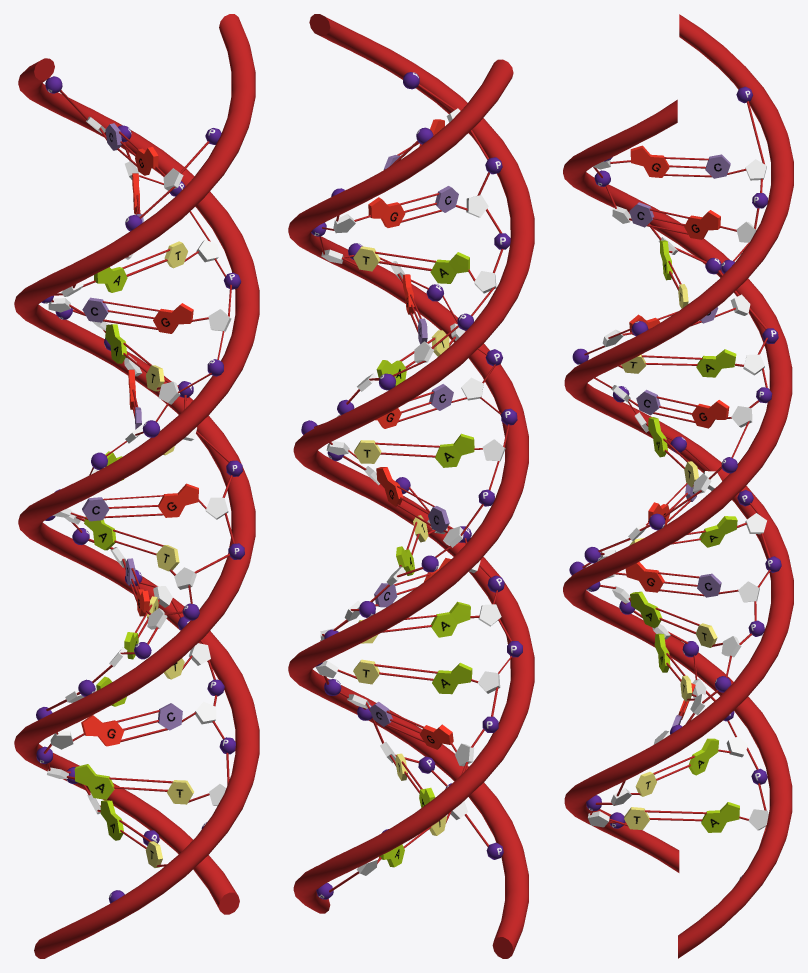
Rendered from DNA.glb.
3 renders of one model, left to right at view 1: azimuth 30°, elevation 25°; view 2: azimuth 150°, elevation 25°; view 3: azimuth 270°, elevation 25°, orthographic. The views are drawn at different scales.
Parts seen in each view (by area): view 1: Sugar_phosphate_backbone_2_Double_helical_DNA_Hydrogen_Bonds, Sugar_phosphate_backbone_53_Double_helical_DNA_Hydrogen_Bond, Deoxyribose_Sugar_All_Adenine_Pentose_Guanine_Thymine_cytosi, phosphate_All_Adenine_Pentose_Guanine_Thymine_cytosine_Diff_, Guanine_All_Adenine_Pentose_Guanine_Thymine_cytosine_Diff_0, Adenine_All_Adenine_Pentose_Guanine_Thymine_cytosine_Diff_0, Thymine_All_Adenine_Pentose_Guanine_Thymine_cytosine_Diff_0, Cytosine_All_Adenine_Pentose_Guanine_Thymine_cytosine_Diff_0, Hydrogen_Bonds_3_Pairing_ALL_Double_helical_DNA_Hydrogen_Bon, Sugar_phosphate_backbone_1_Double_helical_DNA_Hydrogen_Bonds, Sugar_phosphate_backbone_54_Double_helical_DNA_Hydrogen_Bond, Hydrogen_Bonds_2_Pairing_All_Double_helical_DNA_Hydrogen_Bon (+1 smaller); view 2: Sugar_phosphate_backbone_53_Double_helical_DNA_Hydrogen_Bond, Sugar_phosphate_backbone_2_Double_helical_DNA_Hydrogen_Bonds, Deoxyribose_Sugar_All_Adenine_Pentose_Guanine_Thymine_cytosi, phosphate_All_Adenine_Pentose_Guanine_Thymine_cytosine_Diff_, Adenine_All_Adenine_Pentose_Guanine_Thymine_cytosine_Diff_0, Guanine_All_Adenine_Pentose_Guanine_Thymine_cytosine_Diff_0, Thymine_All_Adenine_Pentose_Guanine_Thymine_cytosine_Diff_0, Cytosine_All_Adenine_Pentose_Guanine_Thymine_cytosine_Diff_0, Hydrogen_Bonds_2_Pairing_All_Double_helical_DNA_Hydrogen_Bon, Sugar_phosphate_backbone_1_Double_helical_DNA_Hydrogen_Bonds, Sugar_phosphate_backbone_54_Double_helical_DNA_Hydrogen_Bond, Hydrogen_Bonds_3_Pairing_ALL_Double_helical_DNA_Hydrogen_Bon; view 3: Sugar_phosphate_backbone_2_Double_helical_DNA_Hydrogen_Bonds, Sugar_phosphate_backbone_53_Double_helical_DNA_Hydrogen_Bond, Deoxyribose_Sugar_All_Adenine_Pentose_Guanine_Thymine_cytosi, phosphate_All_Adenine_Pentose_Guanine_Thymine_cytosine_Diff_, Adenine_All_Adenine_Pentose_Guanine_Thymine_cytosine_Diff_0, Guanine_All_Adenine_Pentose_Guanine_Thymine_cytosine_Diff_0, Thymine_All_Adenine_Pentose_Guanine_Thymine_cytosine_Diff_0, Cytosine_All_Adenine_Pentose_Guanine_Thymine_cytosine_Diff_0, Sugar_phosphate_backbone_1_Double_helical_DNA_Hydrogen_Bonds, Hydrogen_Bonds_2_Pairing_All_Double_helical_DNA_Hydrogen_Bon, Hydrogen_Bonds_3_Pairing_ALL_Double_helical_DNA_Hydrogen_Bon, Sugar_phosphate_backbone_54_Double_helical_DNA_Hydrogen_Bond (+2 smaller).
Boxes of the visible parts, x1,y1,x2,y2 form: Sugar_phosphate_backbone_2_Double_helical_DNA_Hydrogen_Bonds: [18, 58, 259, 958]; Sugar_phosphate_backbone_53_Double_helical_DNA_Hydrogen_Bond: [14, 14, 255, 914]; Deoxyribose_Sugar_All_Adenine_Pentose_Guanine_Thymine_cytosi: [47, 116, 231, 814]; phosphate_All_Adenine_Pentose_Guanine_Thymine_cytosine_Diff_: [36, 76, 244, 903]; Guanine_All_Adenine_Pentose_Guanine_Thymine_cytosine_Diff_0: [81, 147, 198, 746]; Adenine_All_Adenine_Pentose_Guanine_Thymine_cytosine_Diff_0: [74, 267, 138, 840]; Thymine_All_Adenine_Pentose_Guanine_Thymine_cytosine_Diff_0: [145, 241, 193, 867]; Cytosine_All_Adenine_Pentose_Guanine_Thymine_cytosine_Diff_0: [82, 123, 182, 730]; Hydrogen_Bonds_3_Pairing_ALL_Double_helical_DNA_Hydrogen_Bon: [102, 131, 167, 742]; Sugar_phosphate_backbone_1_Double_helical_DNA_Hydrogen_Bonds: [43, 141, 234, 835]; Sugar_phosphate_backbone_54_Double_helical_DNA_Hydrogen_Bond: [59, 90, 231, 784]; Hydrogen_Bonds_2_Pairing_All_Double_helical_DNA_Hydrogen_Bon: [109, 248, 172, 848]; Sugar_phosphate_backbone_53_Double_helical_DNA_Hydrogen_Bond: [293, 14, 534, 913]; Sugar_phosphate_backbone_2_Double_helical_DNA_Hydrogen_Bonds: [288, 59, 528, 958]; Deoxyribose_Sugar_All_Adenine_Pentose_Guanine_Thymine_cytosi: [315, 108, 505, 875]; phosphate_All_Adenine_Pentose_Guanine_Thymine_cytosine_Diff_: [301, 72, 522, 899]; Adenine_All_Adenine_Pentose_Guanine_Thymine_cytosine_Diff_0: [379, 252, 474, 867]; Guanine_All_Adenine_Pentose_Guanine_Thymine_cytosine_Diff_0: [368, 119, 453, 749]; Thymine_All_Adenine_Pentose_Guanine_Thymine_cytosine_Diff_0: [353, 246, 446, 835]; Cytosine_All_Adenine_Pentose_Guanine_Thymine_cytosine_Diff_0: [369, 155, 458, 726]; Hydrogen_Bonds_2_Pairing_All_Double_helical_DNA_Hydrogen_Bon: [374, 251, 439, 848]; Sugar_phosphate_backbone_1_Double_helical_DNA_Hydrogen_Bonds: [314, 84, 512, 892]; Sugar_phosphate_backbone_54_Double_helical_DNA_Hydrogen_Bond: [319, 140, 509, 846]; Hydrogen_Bonds_3_Pairing_ALL_Double_helical_DNA_Hydrogen_Bon: [386, 142, 441, 742]; Sugar_phosphate_backbone_2_Double_helical_DNA_Hydrogen_Bonds: [564, 14, 793, 872]; Sugar_phosphate_backbone_53_Double_helical_DNA_Hydrogen_Bond: [563, 99, 792, 958]; Deoxyribose_Sugar_All_Adenine_Pentose_Guanine_Thymine_cytosi: [588, 159, 768, 830]; phosphate_All_Adenine_Pentose_Guanine_Thymine_cytosine_Diff_: [569, 86, 781, 879]; Adenine_All_Adenine_Pentose_Guanine_Thymine_cytosine_Diff_0: [630, 240, 739, 832]; Guanine_All_Adenine_Pentose_Guanine_Thymine_cytosine_Diff_0: [625, 145, 720, 719]; Thymine_All_Adenine_Pentose_Guanine_Thymine_cytosine_Diff_0: [624, 284, 717, 829]; Cytosine_All_Adenine_Pentose_Guanine_Thymine_cytosine_Diff_0: [629, 154, 730, 727]; Sugar_phosphate_backbone_1_Double_helical_DNA_Hydrogen_Bonds: [582, 167, 767, 847]; Hydrogen_Bonds_2_Pairing_All_Double_helical_DNA_Hydrogen_Bon: [644, 261, 706, 821]; Hydrogen_Bonds_3_Pairing_ALL_Double_helical_DNA_Hydrogen_Bon: [646, 157, 711, 716]; Sugar_phosphate_backbone_54_Double_helical_DNA_Hydrogen_Bond: [584, 101, 770, 823].
Bounding box in the file's own units: 0.0204 × 0.082 × 0.02.
Materials: 2 (1 with a texture image).
